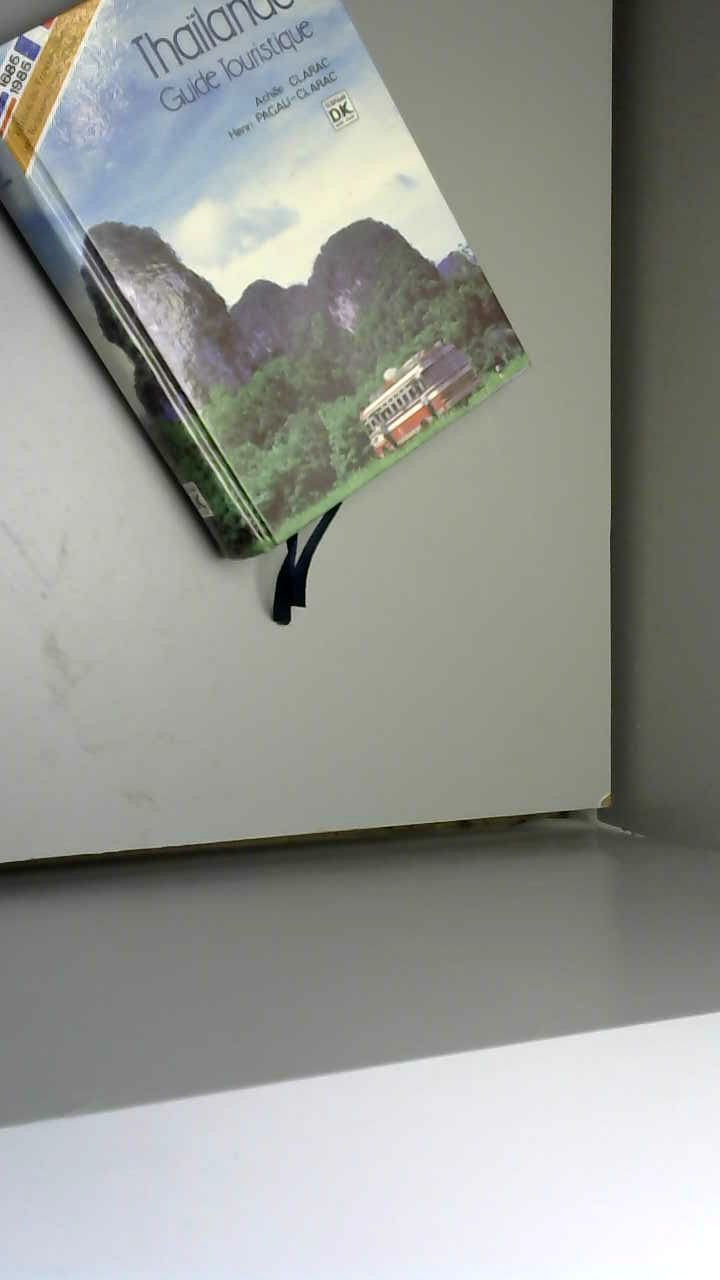book: (0, 0, 541, 595)
